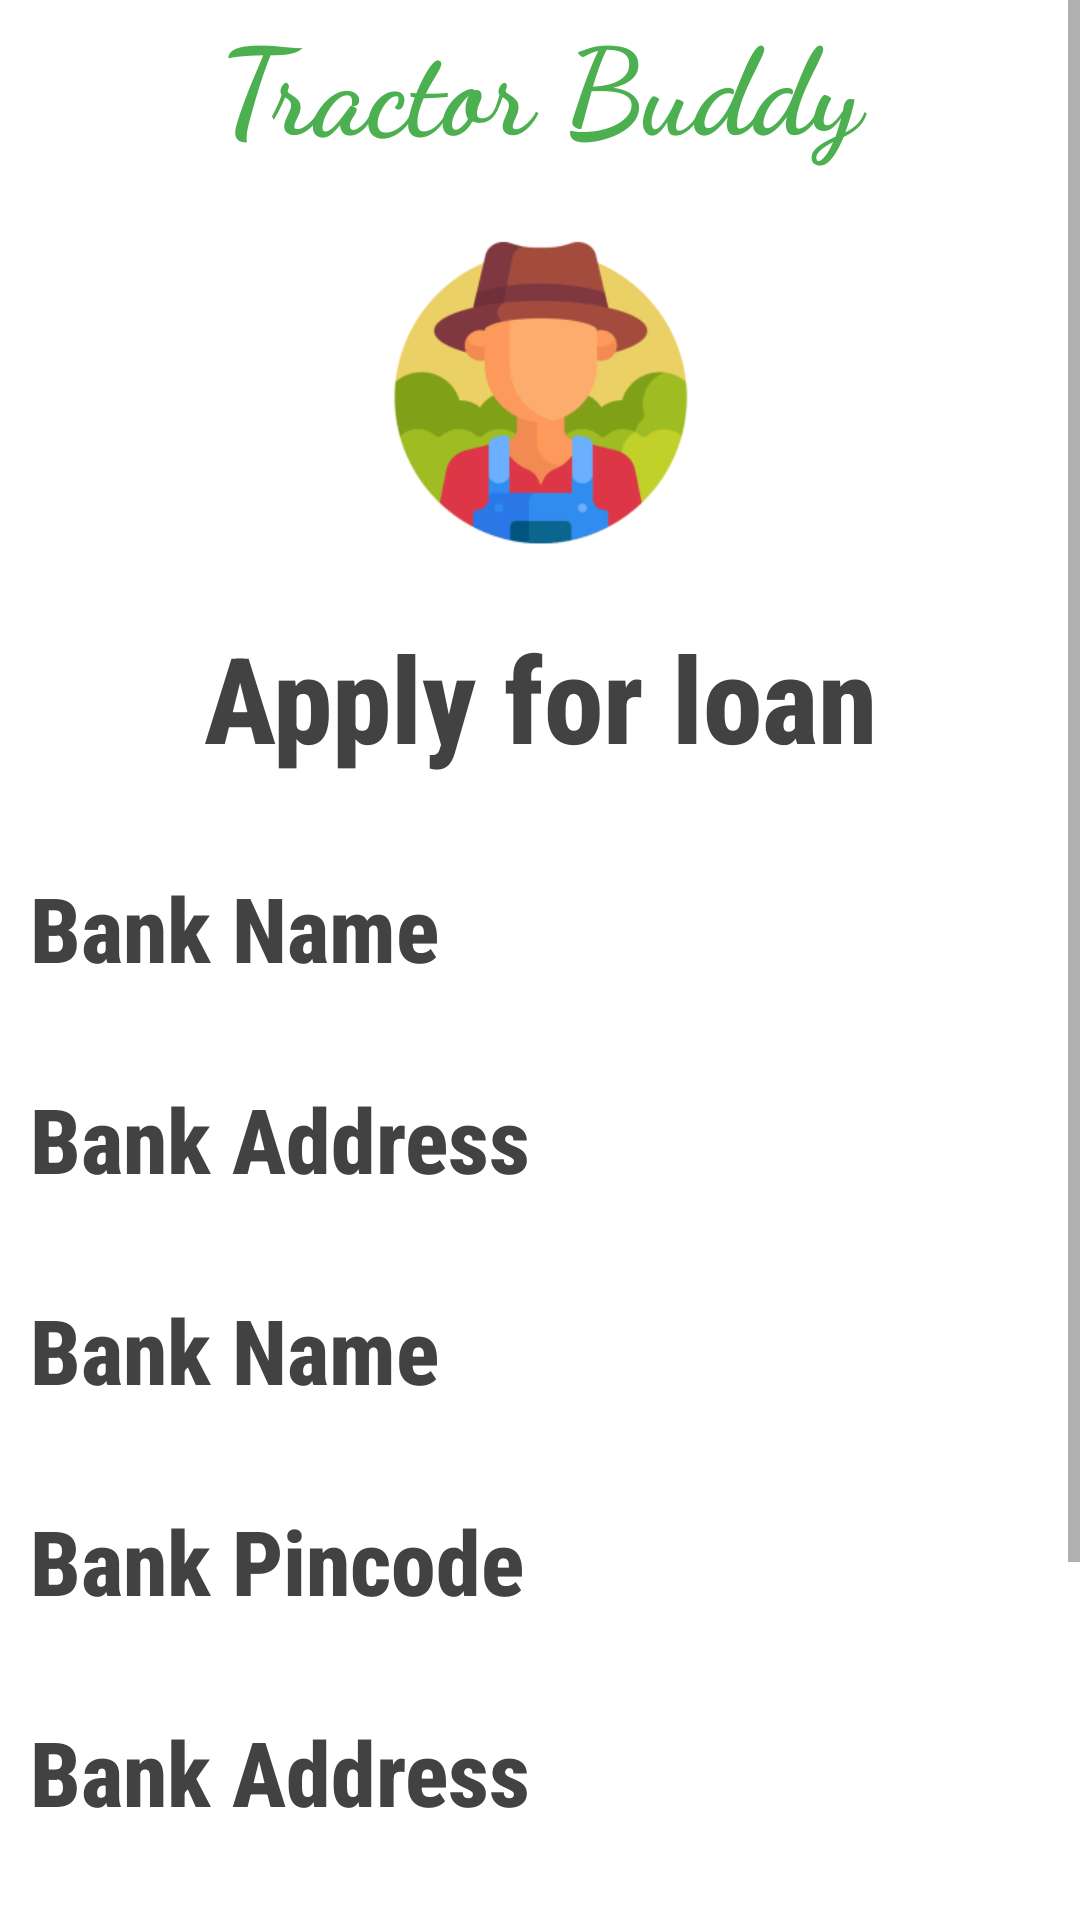

Icon click points for this 1080px×1920px phone screenshot, format (x,y):
farmerimg: (541,392)
